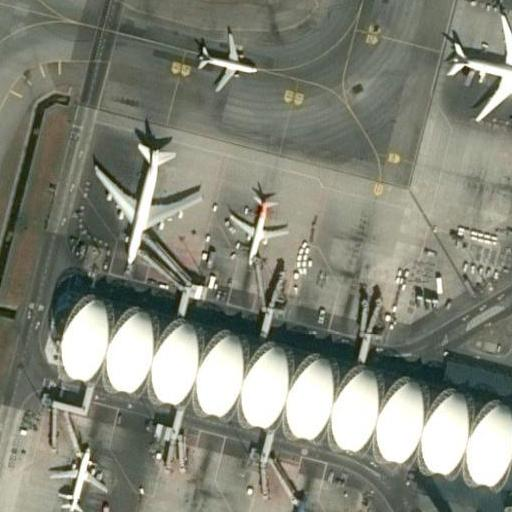Aircraft: (87, 130, 195, 266), (441, 12, 512, 125), (221, 192, 291, 267), (43, 446, 107, 512), (194, 29, 263, 90), (260, 494, 327, 512)
